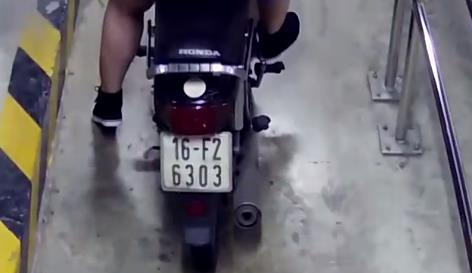lisence: (160, 131, 232, 191)
